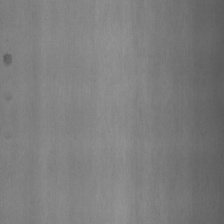oil_spot: (3, 47, 13, 68)
